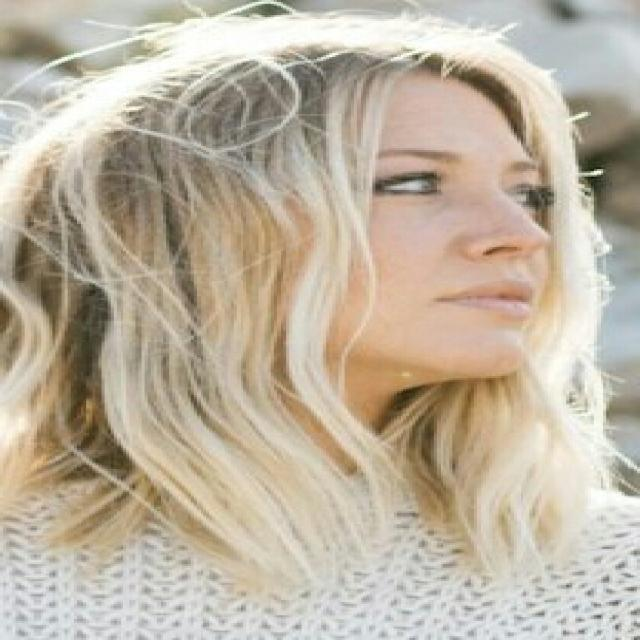front: (352, 141, 560, 373)
